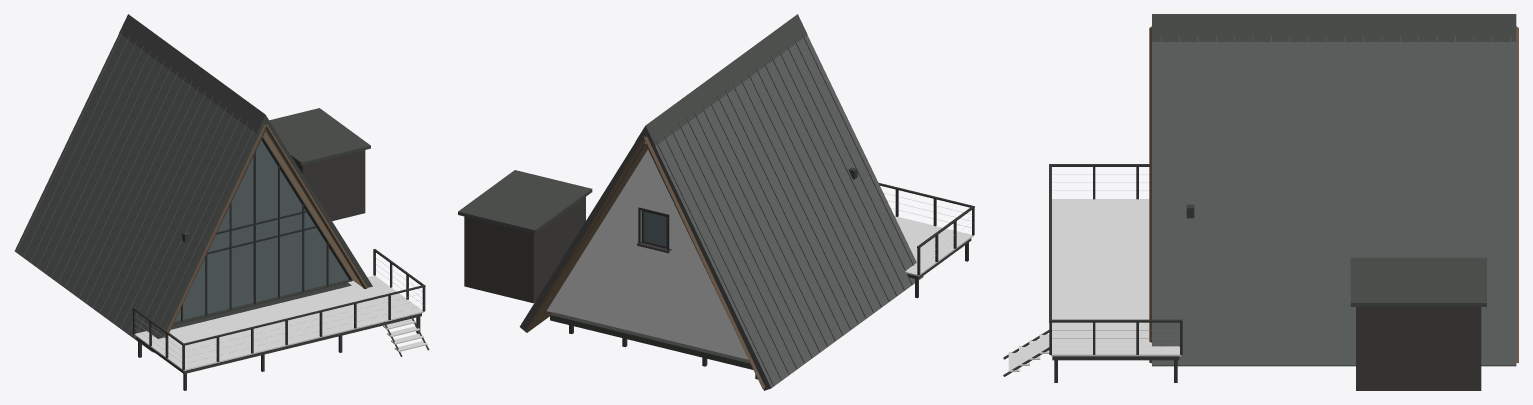
Rendered from p_onego.glb.
The picture shows the model from 3 angles, left to right: view 1: azimuth 30°, elevation 25°; view 2: azimuth 150°, elevation 25°; view 3: azimuth 270°, elevation 25°; orthographic projection. The views are drawn at different scales.
Parts seen in each view (by area): view 1: slab, main_glass, main_deck, falz_ribs, main_roof_edge, main_skirt, main_frame, main_post, main_trim, slab.001, main_timber, main_cable; view 2: slab, main_facade, falz_ribs, main_roof_edge, main_skirt, slab.001, main_timber, main_trim, main_deck, main_post, main_glass; view 3: slab.001, main_roof_edge, main_deck, main_skirt, falz_ribs, main_post, main_timber, main_trim, main_cable.
Part boxes in pixels (x1=…): slab: x1=14, y1=33, x2=265, y2=352; main_glass: x1=174, y1=140, x2=348, y2=321; main_deck: x1=134, y1=275, x2=427, y2=371; falz_ribs: x1=16, y1=30, x2=254, y2=348; main_roof_edge: x1=119, y1=14, x2=370, y2=165; main_skirt: x1=294, y1=150, x2=365, y2=220; main_frame: x1=173, y1=137, x2=352, y2=324; main_post: x1=132, y1=249, x2=425, y2=390; main_trim: x1=136, y1=282, x2=429, y2=373; slab.001: x1=263, y1=128, x2=372, y2=287; main_timber: x1=164, y1=124, x2=367, y2=337; main_cable: x1=135, y1=257, x2=422, y2=363; slab: x1=645, y1=35, x2=923, y2=390; main_facade: x1=546, y1=150, x2=748, y2=359; falz_ribs: x1=655, y1=33, x2=920, y2=385; main_roof_edge: x1=458, y1=14, x2=807, y2=233; main_skirt: x1=464, y1=197, x2=585, y2=303; slab.001: x1=519, y1=140, x2=647, y2=332; main_timber: x1=525, y1=136, x2=765, y2=388; main_trim: x1=550, y1=238, x2=971, y2=369; main_deck: x1=894, y1=216, x2=973, y2=276; main_post: x1=569, y1=183, x2=974, y2=379; main_glass: x1=644, y1=211, x2=666, y2=245; slab.001: x1=1152, y1=42, x2=1516, y2=366; main_roof_edge: x1=1152, y1=14, x2=1516, y2=306; main_deck: x1=1008, y1=199, x2=1181, y2=371; main_skirt: x1=1356, y1=307, x2=1481, y2=390; falz_ribs: x1=1160, y1=36, x2=1511, y2=364; main_post: x1=1049, y1=164, x2=1182, y2=382; main_timber: x1=1149, y1=26, x2=1518, y2=363; main_trim: x1=1003, y1=330, x2=1179, y2=376; main_cable: x1=1052, y1=174, x2=1179, y2=346.
Bounding box in the file's own units: 12.54 × 8.8 × 14.01.
